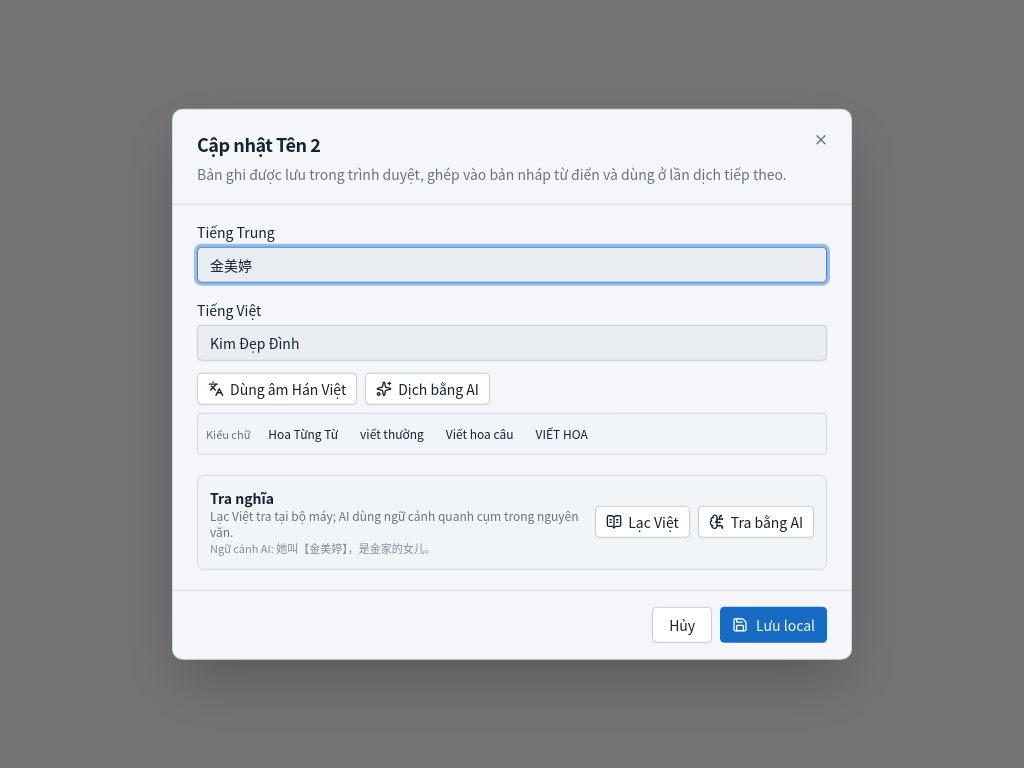
Scenario: dictionary update utilities › sends raw context to AI for translation and meaning lookup
Expected: the field showing "Kim Đẹp Đình" is shown, [197, 325, 827, 361]
Click the button "Dịch bằng AI" at (428, 389), box [365, 373, 490, 405]
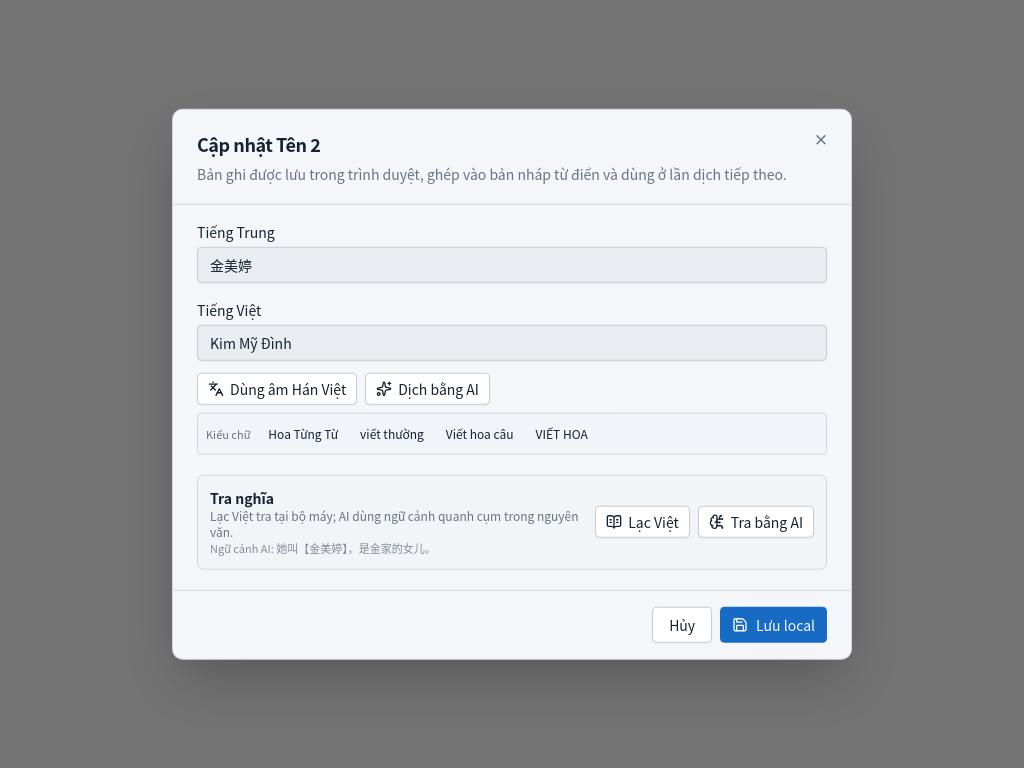
Result: the field labelled "Tiếng Việt" holds "Kim Mỹ Đình" at [197, 325, 827, 361]
Click the button "Tra bằng AI" at (756, 522), box [698, 506, 814, 538]
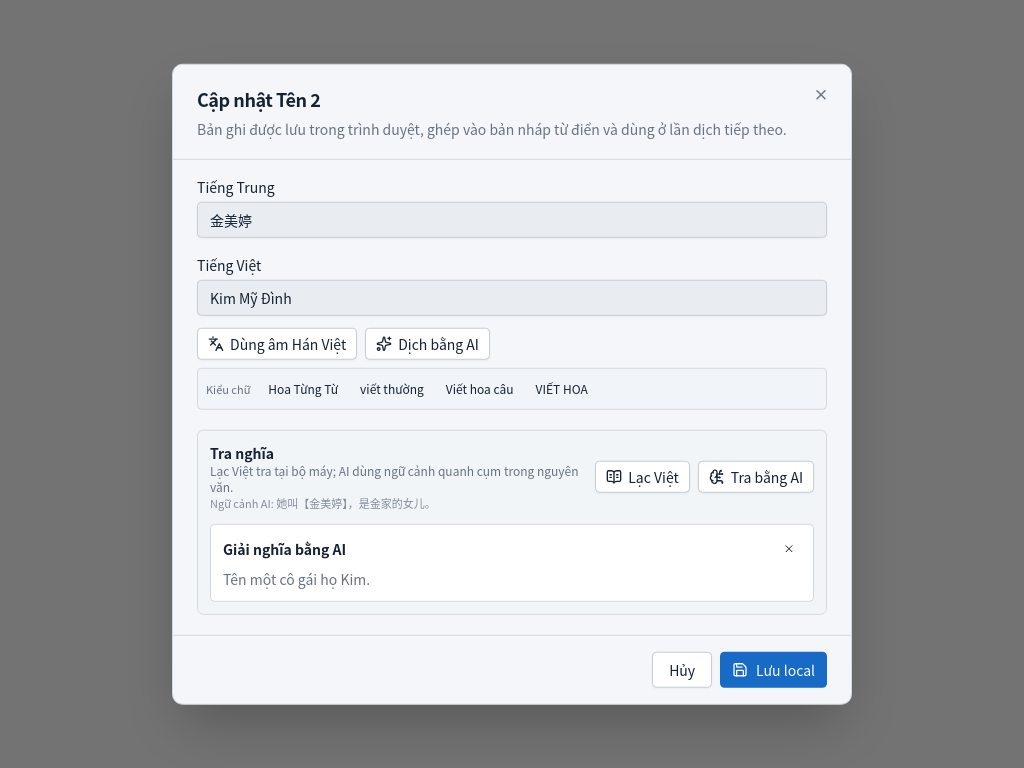
Result: the text "Tên một cô gái họ Kim." is shown at [223, 568, 370, 588]
